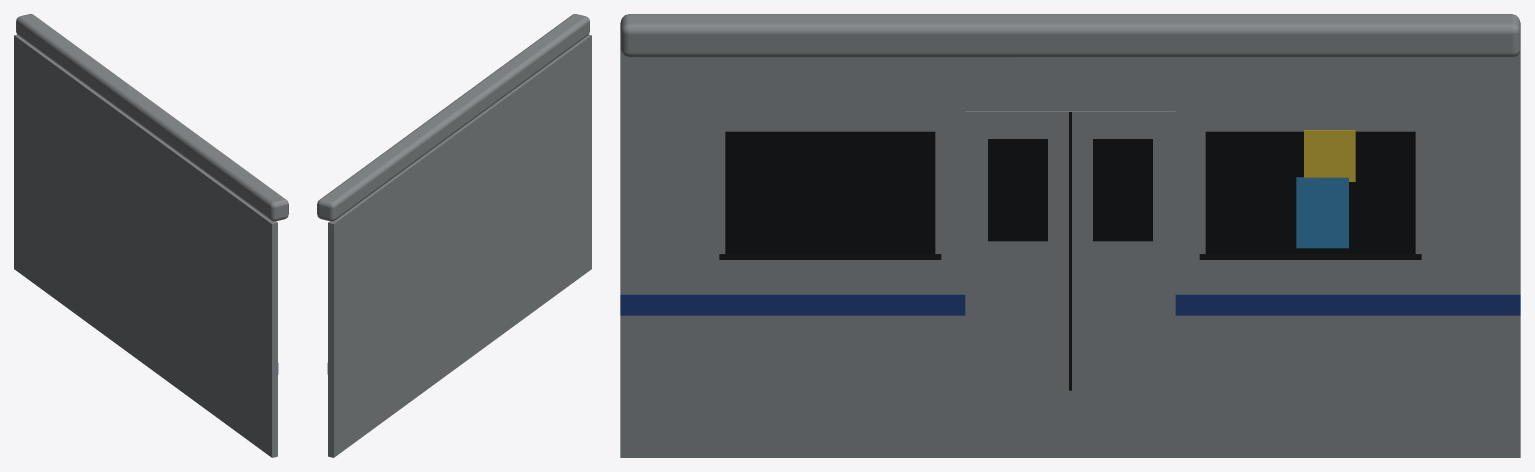
Rendered from metro_dormant_b.glb.
3 renders of one model, left to right at view 1: azimuth 30°, elevation 25°; view 2: azimuth 150°, elevation 25°; view 3: azimuth 270°, elevation 25°, orthographic. The views are drawn at different scales.
Parts seen in each view (by area): view 1: kasten, dachkante; view 2: kasten, dachkante; view 3: kasten, tuer, dachkante, fenster-2.3, fenster0.9, streifen, tuerfenster-1, tuerfenster1, aufkleber1, aufkleber0, fensterrahmen-2.3, fensterrahmen0.9.
Boxes of the visible parts, x1,y1,x2,y2 form: kasten: [14, 34, 277, 457]; dachkante: [16, 14, 288, 221]; kasten: [328, 34, 591, 457]; dachkante: [317, 14, 589, 221]; kasten: [620, 49, 1520, 457]; tuer: [965, 111, 1175, 390]; dachkante: [620, 14, 1520, 57]; fenster-2.3: [725, 131, 935, 254]; fenster0.9: [1205, 131, 1415, 254]; streifen: [620, 294, 1520, 315]; tuerfenster-1: [988, 139, 1047, 241]; tuerfenster1: [1093, 139, 1152, 241]; aufkleber1: [1296, 177, 1348, 248]; aufkleber0: [1304, 130, 1355, 181]; fensterrahmen-2.3: [719, 254, 941, 259]; fensterrahmen0.9: [1199, 254, 1421, 259].
Size of the model in its own units: 0.25 by 3.25 by 6.
